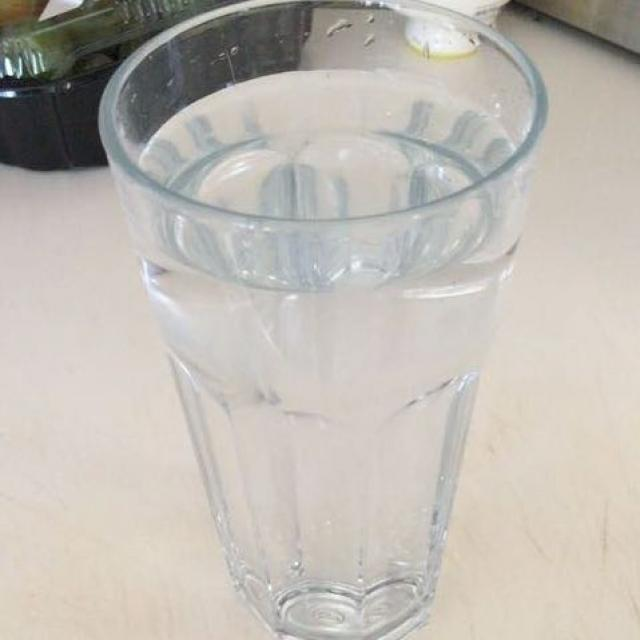water: (122, 60, 538, 636)
